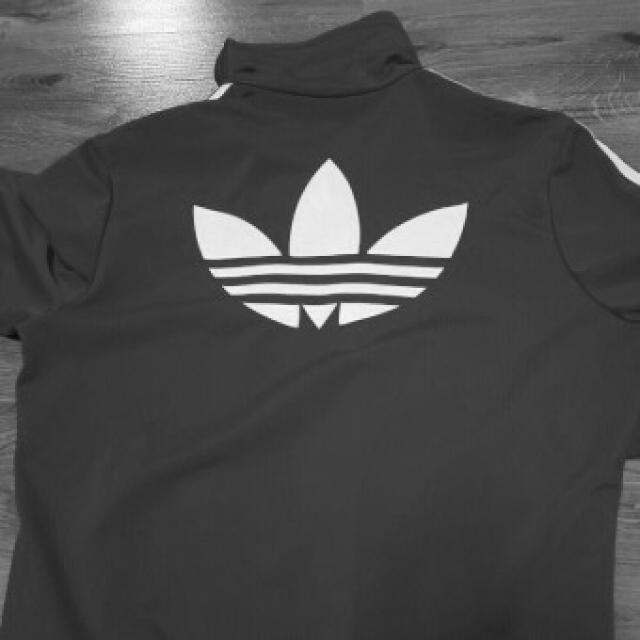Adidas: (183, 147, 478, 333)
